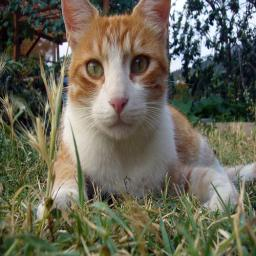catnose: (107, 93, 129, 116)
